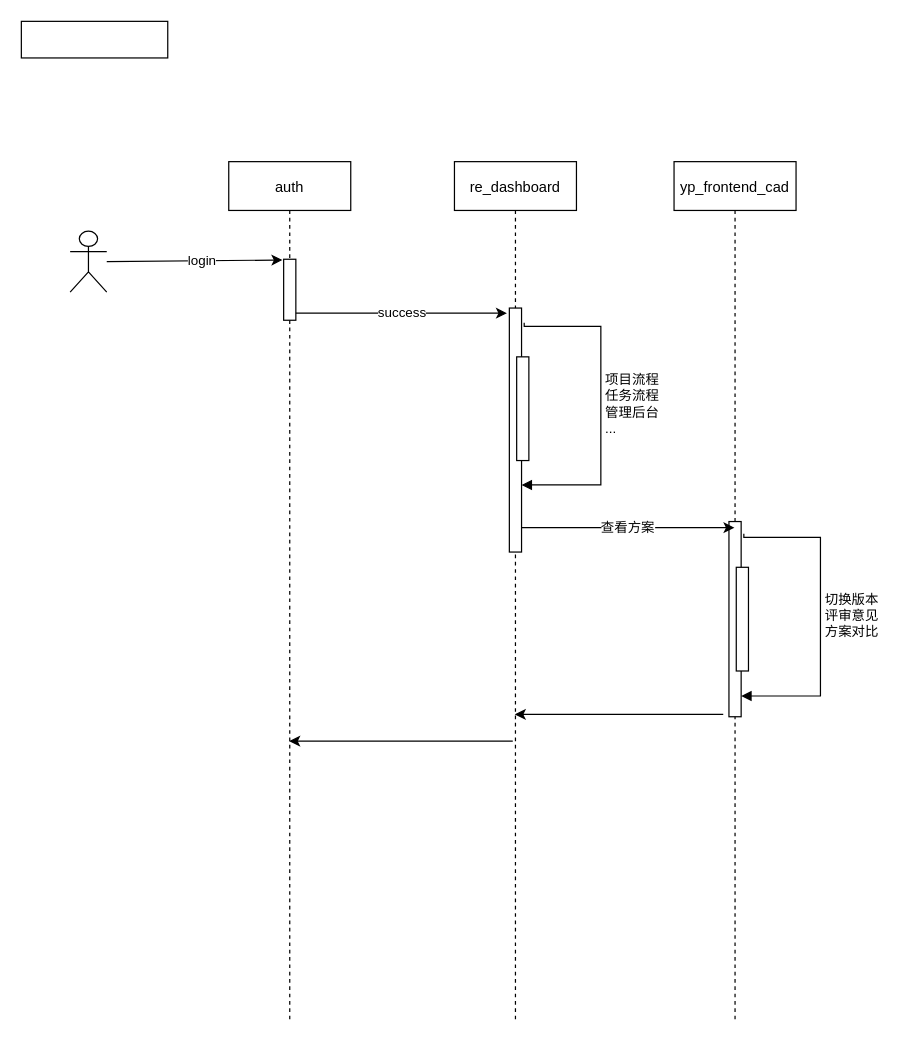
The diagram is 900 pixels wide and 1043 high, and some of its shapes have lost their labels. The box of each missing label's shape, as (x1, y1, x2, y2) in pixels:
Version.20220811: (20, 20, 168, 58)
甲方: (69, 230, 107, 292)
